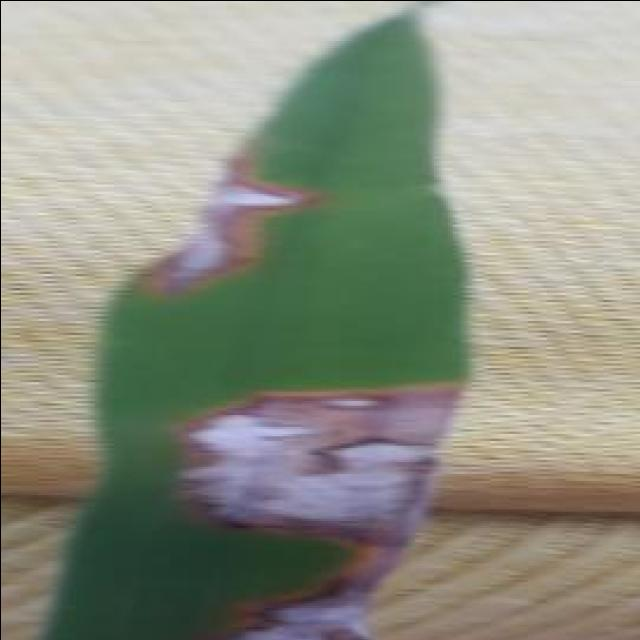Leaf_Blast: (188, 370, 485, 640), (134, 160, 327, 346), (235, 586, 433, 640)
